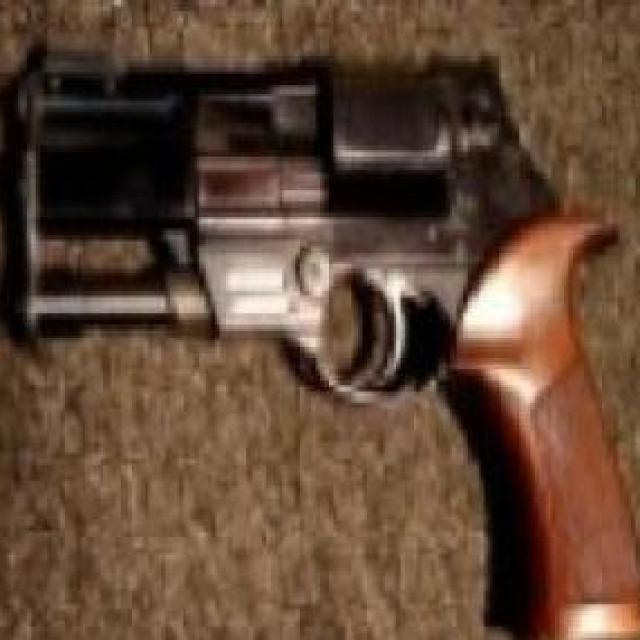pistol: (15, 40, 640, 639)
